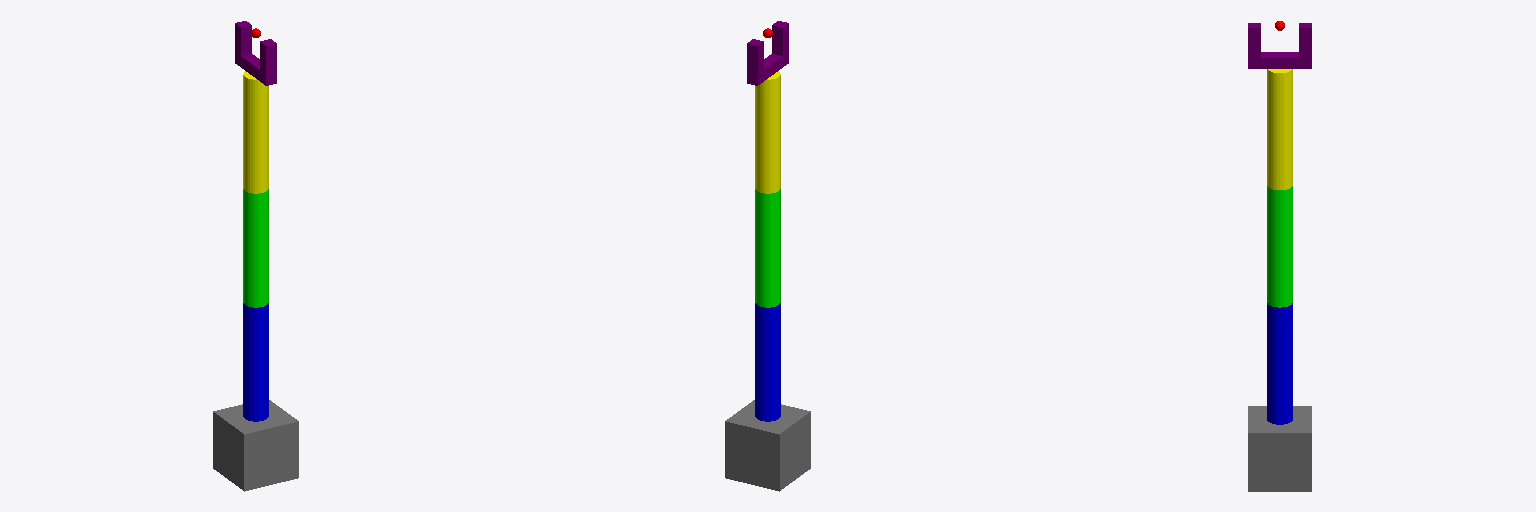
URDF robot description (prrr_manipulator):
<?xml version="1.0"?>
<robot name="prrr_manipulator">

  <!-- Base Link -->
  <link name="base_link">
    <visual>
      <origin xyz="0 0 0" rpy="0 0 0"/>
      <geometry>
        <box size="0.25 0.25 0.25"/>
      </geometry>
      <material name="gray">
        <color rgba="0.5 0.5 0.5 1"/>
      </material>
    </visual>
  </link>

  <!-- Joint -->
  <joint name="revolute1" type="revolute">
    <parent link="base_link"/>
    <child link="link2"/>
    <origin xyz="0 0 0.125" rpy="0 0 0"/>
    <axis xyz="1 0 0"/>
    <limit lower="-3.14" upper="3.14" effort="10" velocity="1"/>
  </joint>

  <!-- Link 2 -->
  <link name="link2">
    <visual>
      <origin xyz="0 0 0.25" rpy="0 0 0"/>
      <geometry>
        <cylinder length="0.5" radius="0.05"/>
      </geometry>
      <material name="blue">
        <color rgba="0 0 1 1"/>
      </material>
    </visual>
    <collision>
      <origin xyz="0 0 0.25" rpy="0 0 0"/>
      <geometry>
        <cylinder length="0.5" radius="0.05"/>
      </geometry>
    </collision>
  </link>

  <!-- Joint -->
  <joint name="revolute2" type="revolute">
    <parent link="link2"/>
    <child link="link3"/>
    <origin xyz="0 0 0.5" rpy="0 0 0"/>
    <axis xyz="1 0 0"/>
    <limit lower="-3.14" upper="3.14" effort="10" velocity="1"/>
  </joint>

  <!-- Link 2 -->
  <link name="link3">
    <visual>
      <origin xyz="0 0 0.25" rpy="0 0 0"/>
      <geometry>
        <cylinder length="0.5" radius="0.05"/>
      </geometry>
      <material name="green">
        <color rgba="0 1 0 1"/>
      </material>
    </visual>
    <collision>
      <origin xyz="0 0 0.25" rpy="0 0 0"/>
      <geometry>
        <cylinder length="0.5" radius="0.05"/>
      </geometry>
    </collision>
  </link>

  <!-- Joint -->
  <joint name="revolute3" type="revolute">
    <parent link="link3"/>
    <child link="link4"/>
    <origin xyz="0 0 0.5" rpy="0 0 0"/>
    <axis xyz="1 0 0"/>
    <limit lower="-3.14" upper="3.14" effort="10" velocity="1"/>
  </joint>

  <!-- Link 3 -->
  <link name="link4">
    <visual>
      <origin xyz="0 0 0.25" rpy="0 0 0"/>
      <geometry>
        <cylinder length="0.5" radius="0.05"/>
      </geometry>
      <material name="yellow">
        <color rgba="1 1 0 1"/>
      </material>
    </visual>
    <collision>
      <origin xyz="0 0 0.25" rpy="0 0 0"/>
      <geometry>
        <cylinder length="0.5" radius="0.05"/>
      </geometry>
    </collision>
  </link>

  <!-- Joint -->
  <joint name="prismatic1" type="prismatic">
    <parent link="link4"/>
    <child link="prismatic_link"/>
    <origin xyz="0 0 0.005" rpy="0 0 0"/> <!-- There was a collision issue so I had to space this a bit off the previous link -->
    <axis xyz="0 1 0"/>
    <limit lower="-0.5" upper="0.5" effort="10" velocity="1"/>
  </joint>

  <!-- Link 1 -->
  <link name="prismatic_link">
  </link>  
    
  <!-- Joint -->
  <joint name="fixed1" type="fixed">
    <parent link="prismatic_link"/>
    <child link="wrist"/>
    <origin xyz="0 0 0.525" rpy="0 0 1.57"/>
    <axis xyz="0 0 1"/>
    <limit lower="-3.14" upper="3.14" effort="10" velocity="1"/>
  </joint>

  <!-- Wrist Link -->
  <link name="wrist">
    <visual>
      <origin xyz="0 0 0" rpy="0 0 0"/>
      <geometry>
        <box size="0.25 0.05 0.05"/>
      </geometry>
      <material name="purple">
        <color rgba="0.5 0 0.5 1"/>
      </material>
    </visual>
    <collision>
      <origin xyz="0 0 0" rpy="0 0 0"/>
      <geometry>
        <box size="0.25 0.05 0.05"/>
      </geometry>
    </collision>
  </link>

  <!-- Joint -->
  <joint name="fixed2" type="fixed">
    <parent link="wrist"/>
    <child link="left_finger"/>
    <origin xyz="-0.1 0 0.075" rpy="0 0 0"/>
  </joint>

  <!-- Left Finger Link -->
  <link name="left_finger">
    <visual>
      <origin xyz="0 0 0" rpy="0 0 0"/>
      <geometry>
        <box size="0.05 0.05 0.15"/>
      </geometry>
      <material name="purple">
        <color rgba="0.5 0 0.5 1"/>
      </material>
    </visual>
    <collision>
      <origin xyz="0 0 0" rpy="0 0 0"/>
      <geometry>
        <box size="0.05 0.05 0.15"/>
      </geometry>
    </collision>
  </link>

  <!-- Joint -->
  <joint name="fixed3" type="fixed">
    <parent link="wrist"/>
    <child link="right_finger"/>
    <origin xyz="0.1 0 0.075" rpy="0 0 0"/>
  </joint>

  <!-- Right Finger Link -->
  <link name="right_finger">
    <visual>
      <origin xyz="0 0 0" rpy="0 0 0"/>
      <geometry>
        <box size="0.05 0.05 0.15"/>
      </geometry>
      <material name="purple">
        <color rgba="0.5 0 0.5 1"/>
      </material>
    </visual>
    <collision>
      <origin xyz="0 0 0" rpy="0 0 0"/>
      <geometry>
        <box size="0.05 0.05 0.15"/>
      </geometry>
    </collision>
  </link>

  <!-- Center of gripper -->
  <link name="gripper_center">
    <visual>
      <origin xyz="0 0 0.0" rpy="0 0 0"/>
      <geometry>
        <sphere radius="0.02"/> 
      </geometry>
      <material name="red">
        <color rgba="1 0 0 1"/>
      </material>
    </visual>
  </link>

  <!-- Joint -->
  <joint name="fixed4" type="fixed">
    <parent link="wrist"/>
    <child link="gripper_center"/>
    <origin xyz="0 0 0.15" rpy="0 0 0"/>
  </joint>  

</robot>

--- Facts derived from the render (not from the file) ---
Views: 3 orthographic renders of the robot side by side, from view 1: azimuth 30°, elevation 25°; view 2: azimuth 150°, elevation 25°; view 3: azimuth 270°, elevation 25°.
Robot: prrr_manipulator — 9 links, 8 joints (3 revolute, 1 prismatic, 4 fixed); root link base_link; default pose: every joint at zero.
Visible links, largest first — view 1: base_link, link2, link3, link4, wrist, left_finger, right_finger; view 2: base_link, link2, link3, link4, wrist, left_finger, right_finger; view 3: base_link, link4, link3, link2, wrist.
Boxes of the visible links, box(x1,y1,x2,y2) form: base_link: box(213, 400, 298, 491); link2: box(243, 303, 268, 421); link3: box(243, 189, 268, 307); link4: box(243, 71, 268, 193); wrist: box(235, 52, 276, 85); left_finger: box(260, 39, 276, 78); right_finger: box(235, 21, 251, 56); base_link: box(725, 400, 810, 491); link2: box(755, 303, 780, 421); link3: box(755, 189, 780, 307); link4: box(755, 71, 780, 193); wrist: box(747, 54, 788, 85); left_finger: box(772, 21, 788, 60); right_finger: box(747, 39, 763, 78); base_link: box(1248, 406, 1311, 491); link4: box(1267, 69, 1292, 189); link3: box(1267, 186, 1292, 307); link2: box(1267, 303, 1292, 424); wrist: box(1248, 52, 1311, 68).
Bounding box of the posed robot: 0.25 × 0.25 × 1.95 m (x, y, z).
Geometry: primitives only (box / cylinder / sphere), no mesh files.